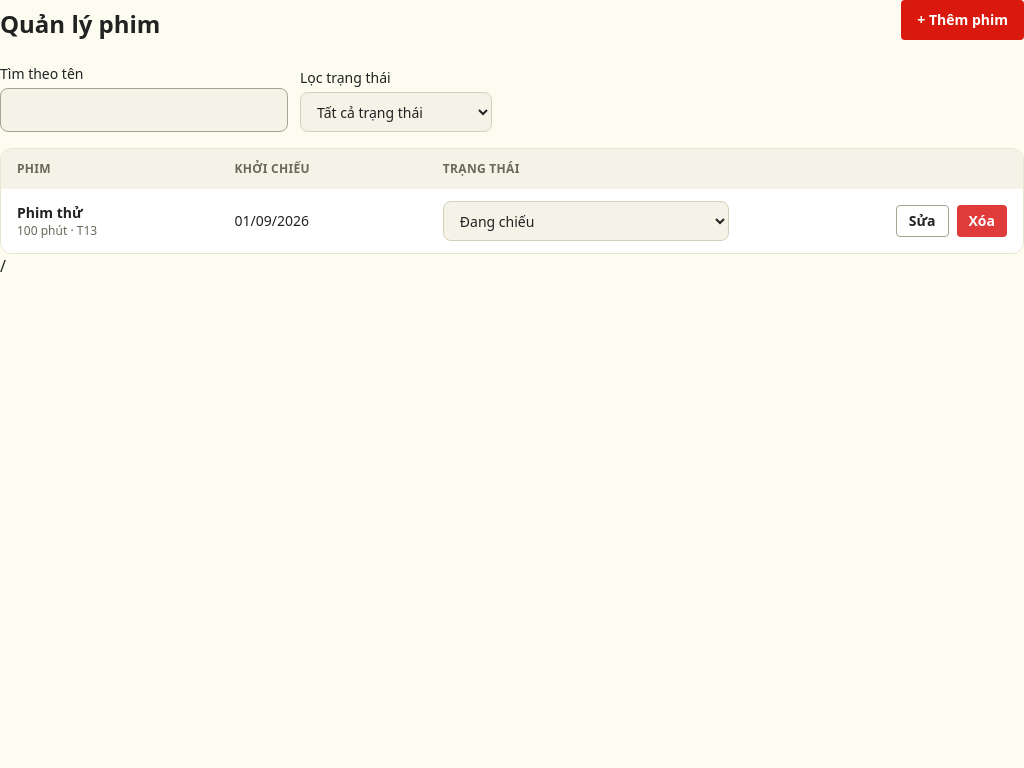
Scenario: AdminMoviesPage (A02) › xóa phim đã có suất (RESOURCE_IN_USE): giải thích và gợi ý "Ngừng chiếu"
Click the button with aria-label "Xóa Phim thử" at x=982, y=221, box [956, 205, 1007, 237]
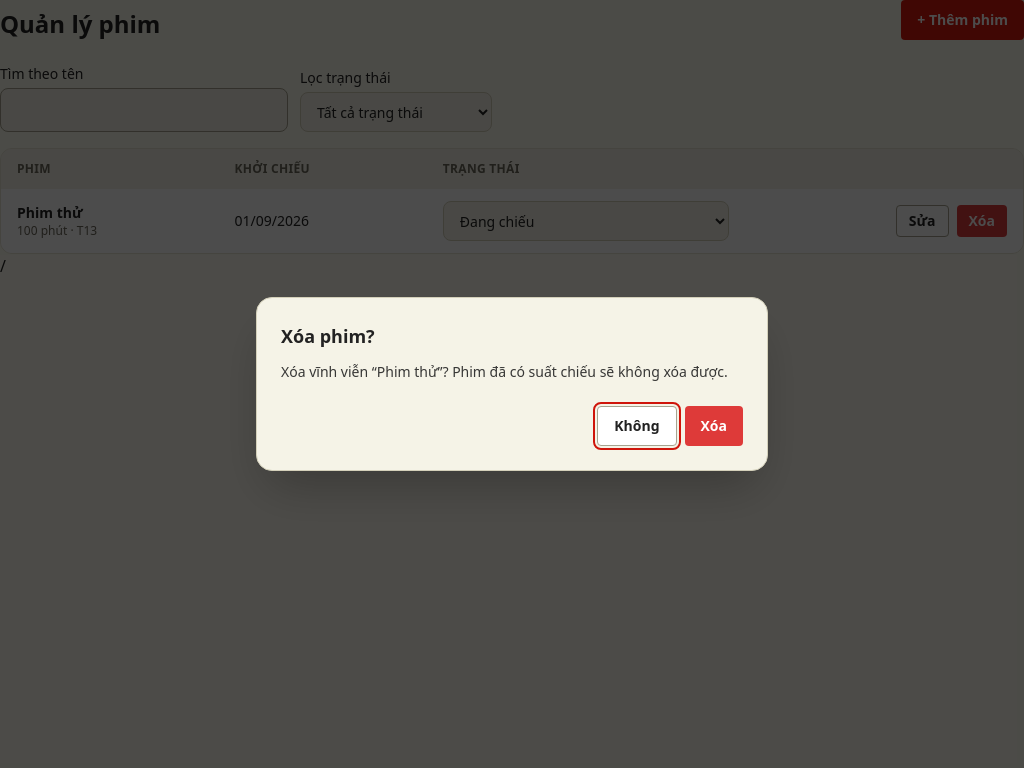
Click the button "Xóa" at x=714, y=426, box [684, 406, 743, 446]
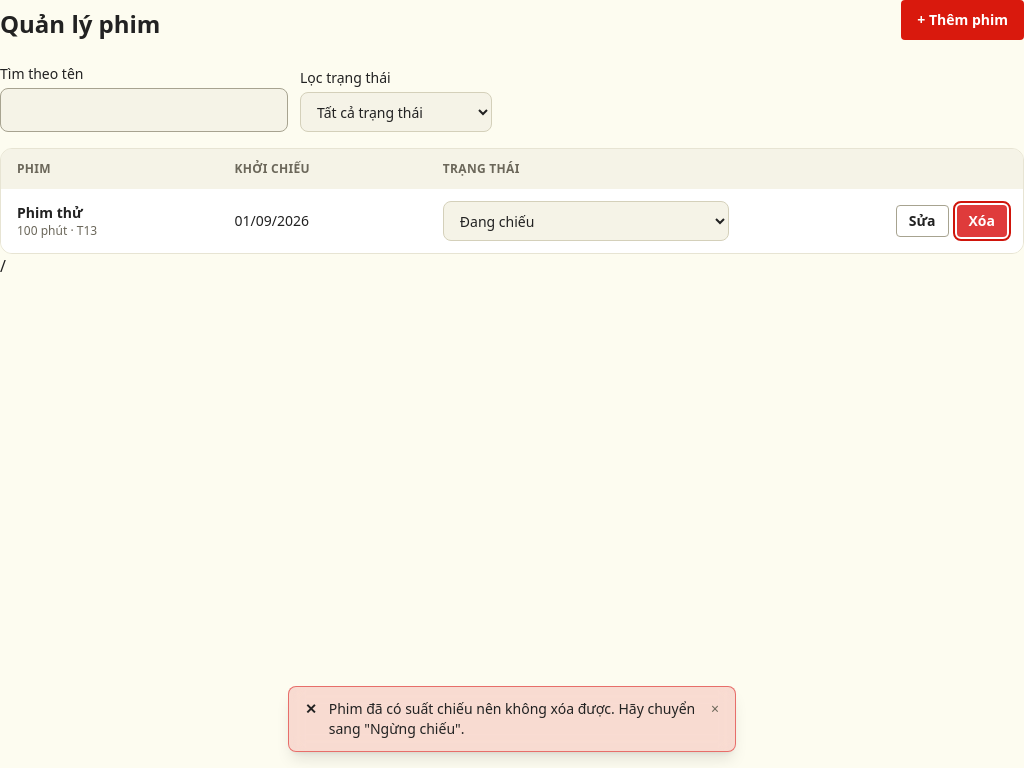
Expected: the text "chuyển sang \"Ngừng chiếu\"" is shown, [329, 699, 695, 738]
